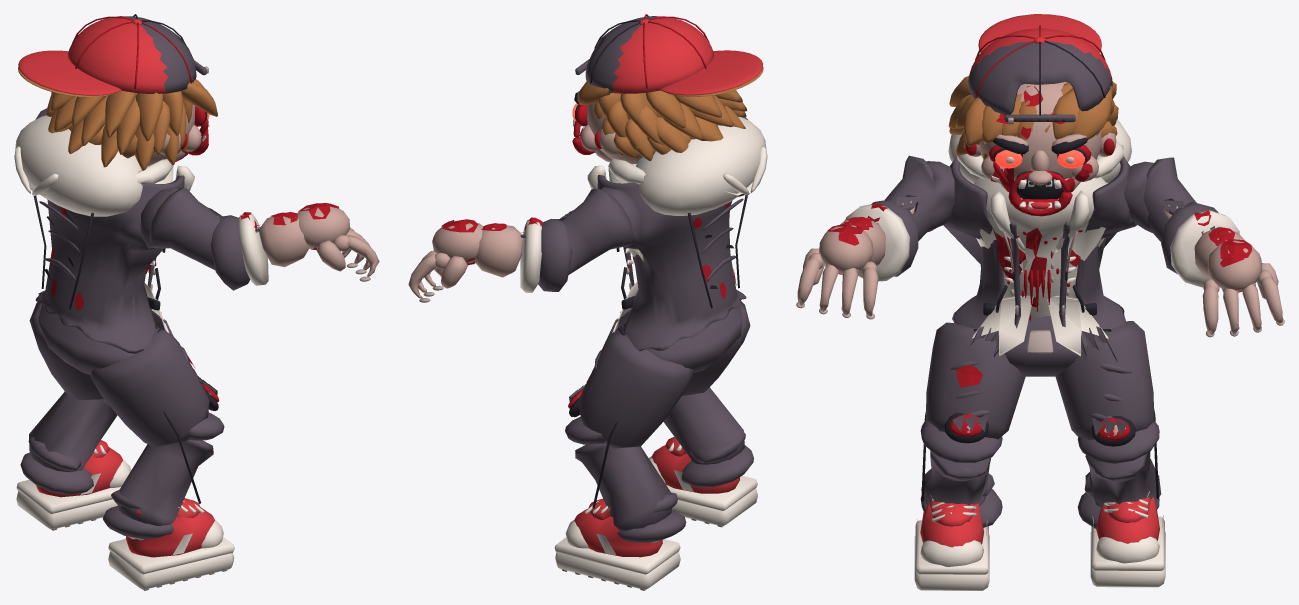
3 views of the same model, side by side, from view 1: azimuth 30°, elevation 25°; view 2: azimuth 150°, elevation 25°; view 3: azimuth 270°, elevation 25° (orthographic). The views are drawn at different scales.
Parts seen in each view (by area): view 1: torso__pal_asphalt, torso__pal_picketWhite, head__pal_woodWarm, legR__pal_asphalt, head__pal_survivorRed_regions, shinR__pal_asphalt, shinL__pal_asphalt, footR__pal_picketWhite, armR__pal_asphalt, footL__pal_picketWhite, handR__pal_infectedSkin, hip__pal_asphalt (+10 smaller); view 2: torso__pal_asphalt, torso__pal_picketWhite, legL__pal_asphalt, head__pal_woodWarm, shinL__pal_asphalt, head__pal_survivorRed_regions, shinR__pal_asphalt, armL__pal_asphalt, footL__pal_picketWhite, handL__pal_infectedSkin, footR__pal_picketWhite, head__pal_survivorRed (+10 smaller); view 3: torso__pal_picketWhite, torso__pal_asphalt, legL__pal_asphalt, head__pal_survivorRed_regions, legR__pal_asphalt, head__pal_woodWarm, shinR__pal_asphalt, shinL__pal_asphalt, handL__pal_infectedSkin, handR__pal_infectedSkin, head__pal_infectedSkin, footL__pal_picketWhite (+20 smaller).
Part boxes in pixels (x1,y1,x2,y2): torso__pal_asphalt: (35, 175, 184, 353); torso__pal_picketWhite: (14, 115, 194, 333); head__pal_woodWarm: (18, 67, 217, 170); legR__pal_asphalt: (90, 328, 217, 447); head__pal_survivorRed_regions: (67, 16, 196, 93); shinR__pal_asphalt: (102, 412, 224, 538); shinL__pal_asphalt: (20, 391, 117, 494); footR__pal_picketWhite: (108, 500, 234, 589); armR__pal_asphalt: (140, 187, 224, 269); footL__pal_picketWhite: (16, 445, 131, 529); handR__pal_infectedSkin: (297, 206, 379, 276); hip__pal_asphalt: (38, 304, 158, 374); torso__pal_asphalt: (597, 175, 746, 352); torso__pal_picketWhite: (587, 116, 767, 332); legL__pal_asphalt: (569, 331, 695, 448); head__pal_woodWarm: (577, 67, 763, 160); shinL__pal_asphalt: (565, 416, 686, 542); head__pal_survivorRed_regions: (585, 16, 713, 93); shinR__pal_asphalt: (663, 387, 753, 487); armL__pal_asphalt: (558, 187, 642, 274); footL__pal_picketWhite: (554, 501, 680, 589); handL__pal_infectedSkin: (408, 220, 483, 298); footR__pal_picketWhite: (649, 442, 757, 525); head__pal_survivorRed: (639, 19, 762, 95); torso__pal_picketWhite: (948, 119, 1131, 356); torso__pal_asphalt: (943, 156, 1136, 362); legL__pal_asphalt: (1055, 321, 1154, 439); head__pal_survivorRed_regions: (967, 28, 1112, 114); legR__pal_asphalt: (926, 322, 1025, 439); head__pal_woodWarm: (948, 76, 1118, 160); shinR__pal_asphalt: (920, 420, 1002, 527); shinL__pal_asphalt: (1077, 421, 1161, 528); handL__pal_infectedSkin: (1202, 240, 1282, 335); handR__pal_infectedSkin: (797, 225, 878, 316); head__pal_infectedSkin: (971, 82, 1116, 184); footL__pal_picketWhite: (1090, 491, 1165, 587).
Size of what is drawn, in the model's own units: 0.6935 by 1.38 by 1.14.
